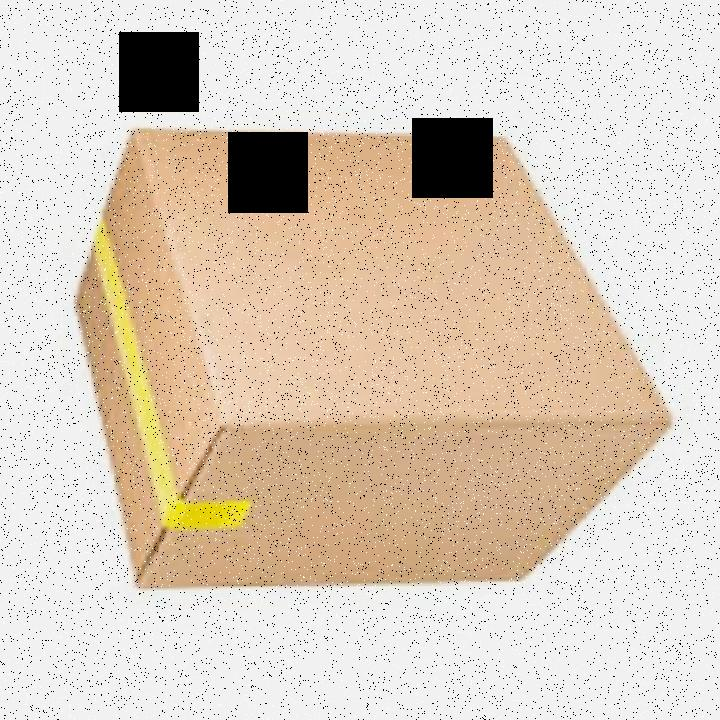box: (55, 119, 691, 620)
